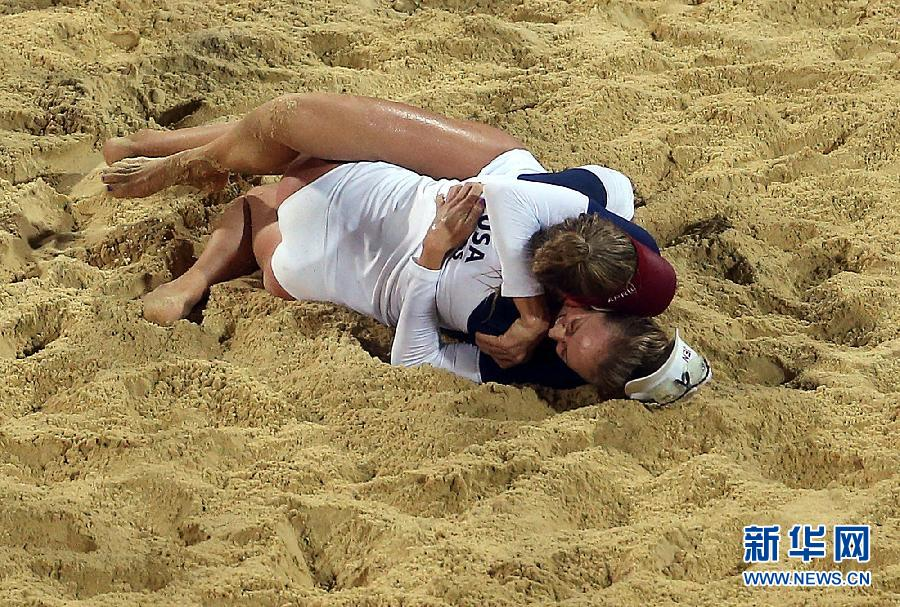fall: (124, 131, 689, 411)
